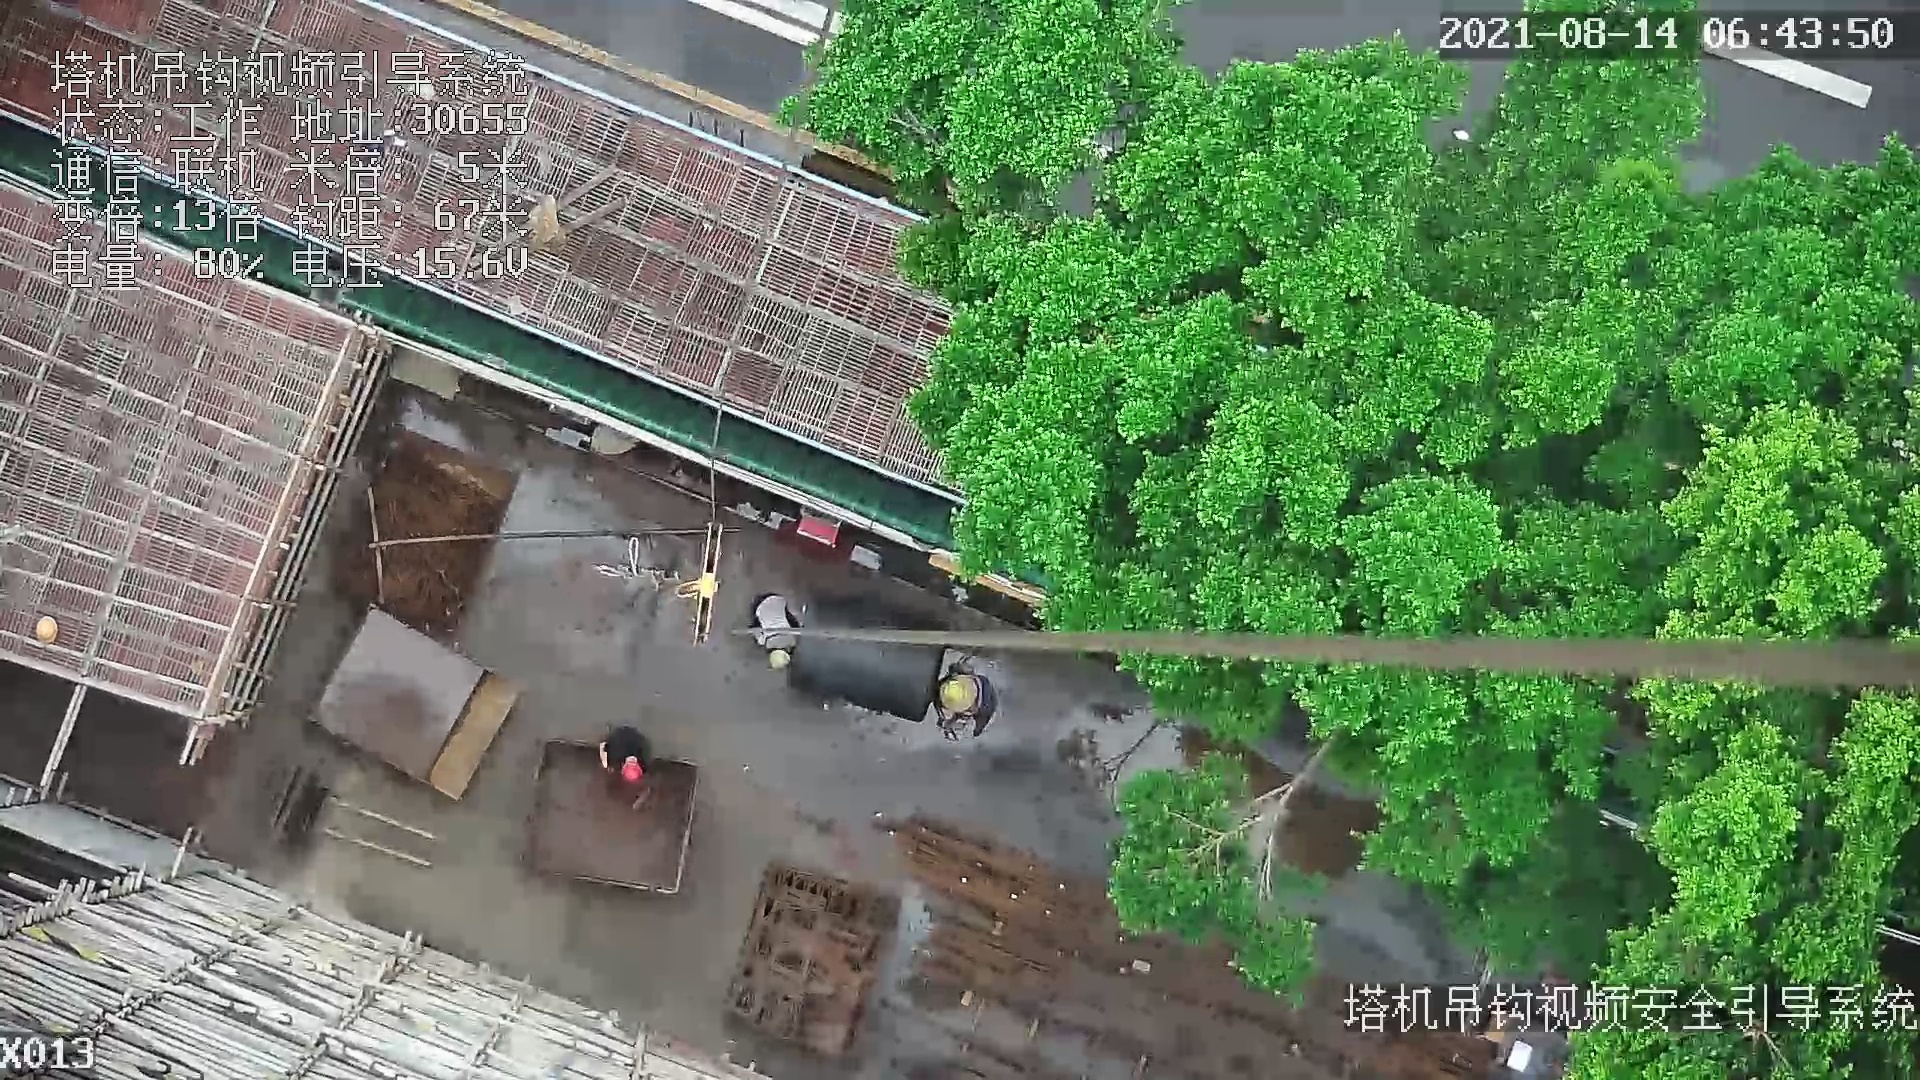helmet: (29, 613, 63, 648), (618, 760, 644, 785), (944, 680, 964, 708), (769, 650, 792, 669)
person: (749, 589, 806, 674), (936, 663, 997, 740), (597, 727, 651, 800)
